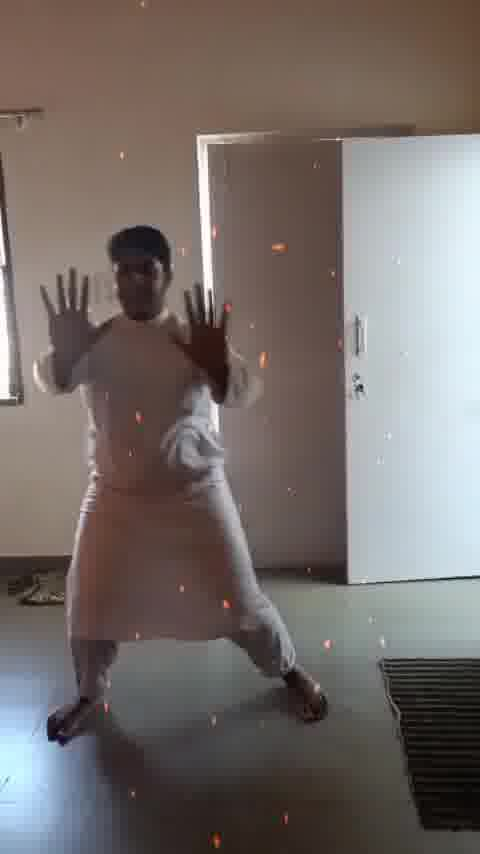duck: (13, 226, 368, 740)
